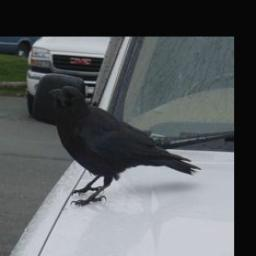Crow: (50, 84, 200, 208)
